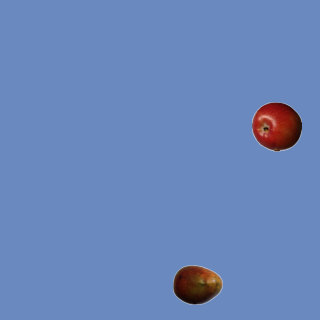Apple Braeburn: (251, 101, 301, 151)
Mango Red: (172, 259, 222, 309)
